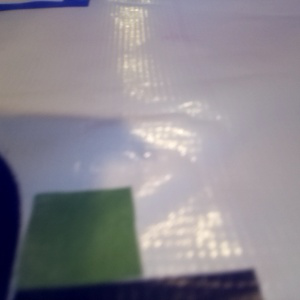top_right: (1, 145, 193, 300)
